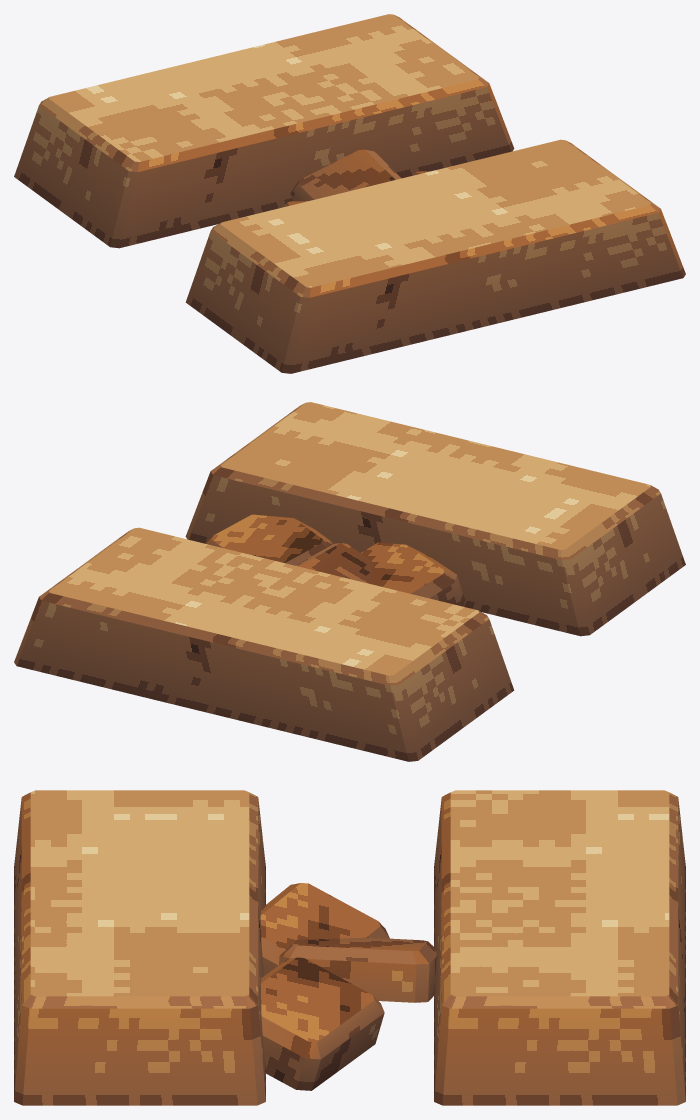
The model's file is land.causeway__broken.glb.
3 views of the same model, one above another, from view 1: azimuth 30°, elevation 25°; view 2: azimuth 150°, elevation 25°; view 3: azimuth 270°, elevation 25° (orthographic). The views are drawn at different scales.
Visible parts, largest first — view 1: kit_deck_s, kit_deck_n, kit_fallen; view 2: kit_deck_n, kit_deck_s, kit_fallen; view 3: kit_deck_n, kit_deck_s, kit_fallen.
Boxes of the visible parts, bbox=[...] form: kit_deck_s: bbox=[185, 139, 685, 373]; kit_deck_n: bbox=[14, 14, 514, 248]; kit_fallen: bbox=[282, 149, 429, 207]; kit_deck_n: bbox=[14, 527, 514, 761]; kit_deck_s: bbox=[185, 402, 685, 636]; kit_fallen: bbox=[206, 514, 464, 606]; kit_deck_n: bbox=[434, 790, 685, 1105]; kit_deck_s: bbox=[14, 790, 265, 1105]; kit_fallen: bbox=[260, 883, 436, 1090].
Bounding box in the file's own units: 3.4 × 0.7018 × 4.
Materials: 3 (3 with a texture image).
